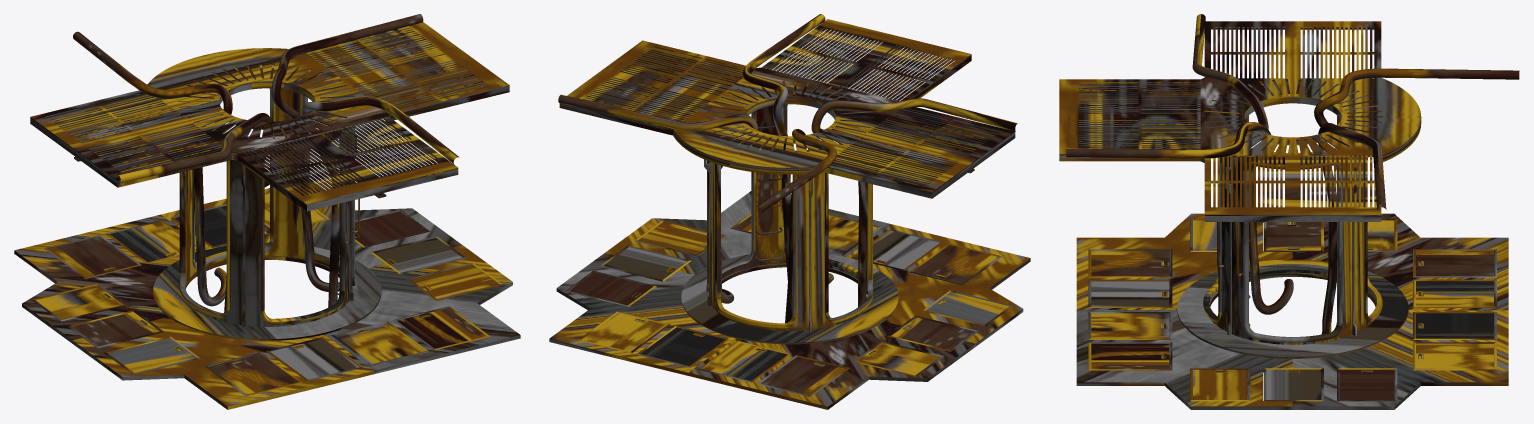
The model's file is SM_Mod05IndPropsA.gltf.
The picture shows the model from 3 angles, left to right: view 1: azimuth 30°, elevation 25°; view 2: azimuth 150°, elevation 25°; view 3: azimuth 270°, elevation 25°; orthographic projection. The views are drawn at different scales.
Parts seen in each view (by area): view 1: SM_Mod05IndPropsA; view 2: SM_Mod05IndPropsA; view 3: SM_Mod05IndPropsA.
Part boxes in pixels (x1,y1,x2,y2): SM_Mod05IndPropsA: [14, 14, 520, 409]; SM_Mod05IndPropsA: [549, 14, 1030, 409]; SM_Mod05IndPropsA: [1059, 14, 1519, 409].
Bounding box in the file's own units: 5.32 × 2.99 × 5.32.
Materials: 1 (1 with a texture image).
